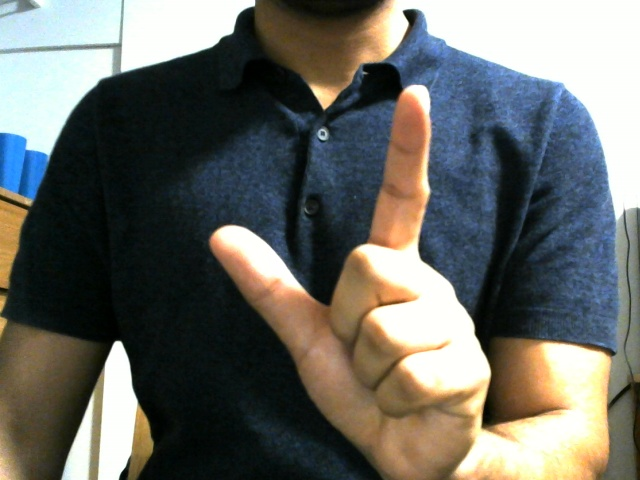L: (205, 85, 515, 476)
